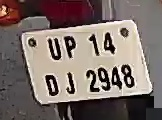1: (86, 34, 101, 57)
2: (85, 69, 100, 95)
4: (102, 33, 117, 57), (110, 67, 123, 91)
8: (119, 64, 138, 90)
9: (98, 67, 110, 92)
D: (41, 72, 61, 100)
J: (63, 70, 80, 96)
P: (64, 36, 76, 60)
U: (45, 35, 63, 62)
